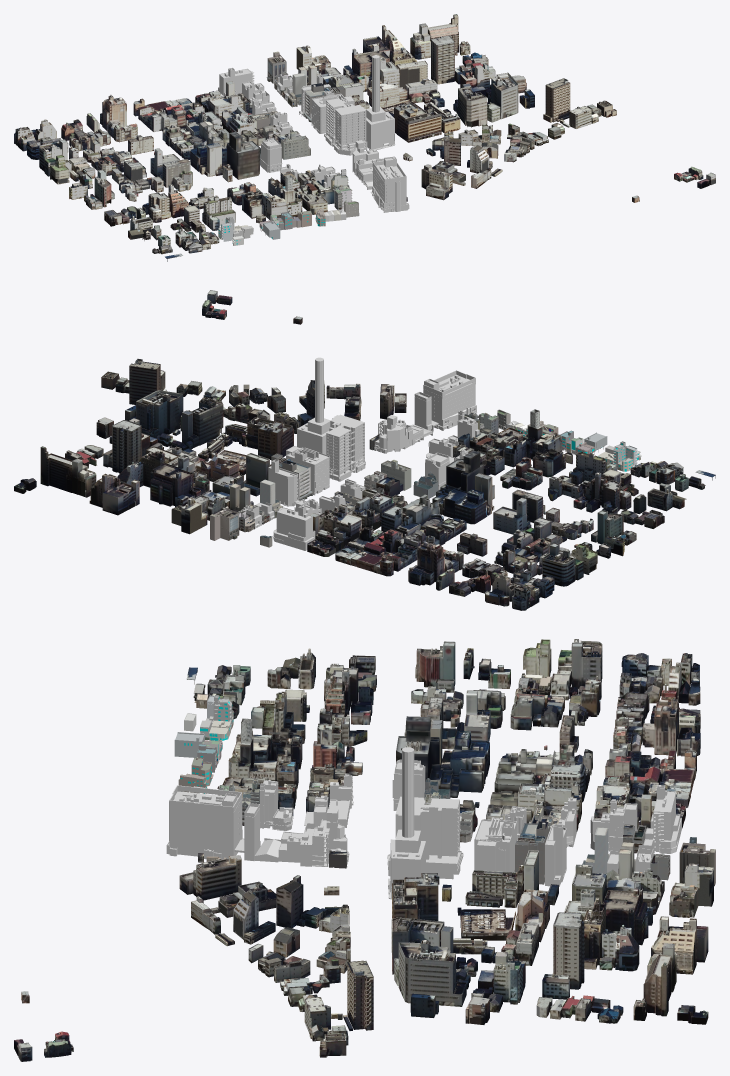
The model's file is lod3-station-6-1-packed.glb.
The picture shows the model from 3 angles, top to bottom: view 1: azimuth 30°, elevation 25°; view 2: azimuth 150°, elevation 25°; view 3: azimuth 270°, elevation 25°; orthographic projection. The views are drawn at different scales.
Size of the model in its own units: 610 by 104 by 463.
50 materials, 48 textured.
